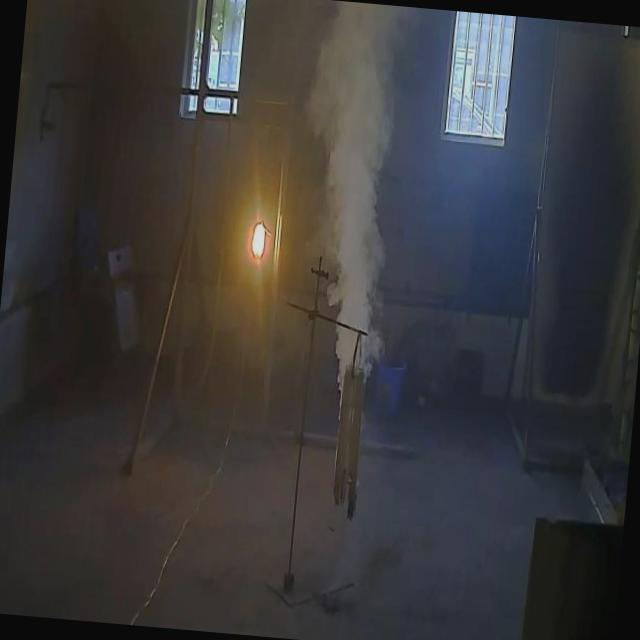smoke: (269, 0, 422, 438)
